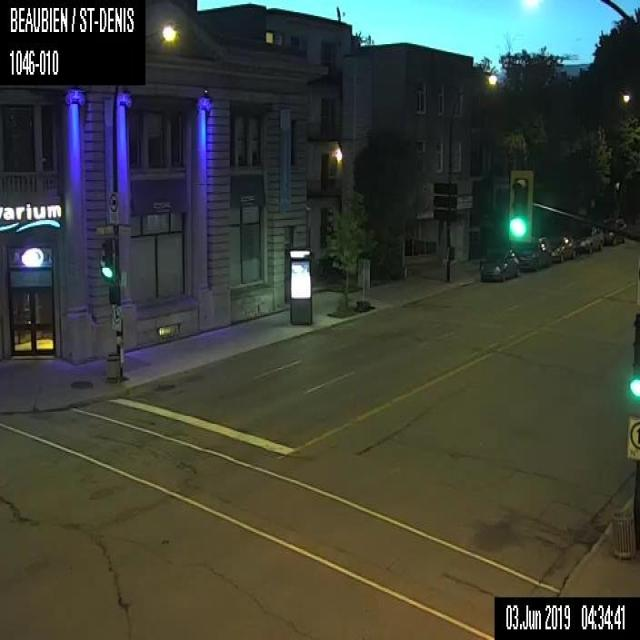vehicle: (478, 244, 519, 282), (515, 233, 551, 271), (543, 232, 575, 262), (572, 225, 603, 253), (598, 217, 626, 245)
